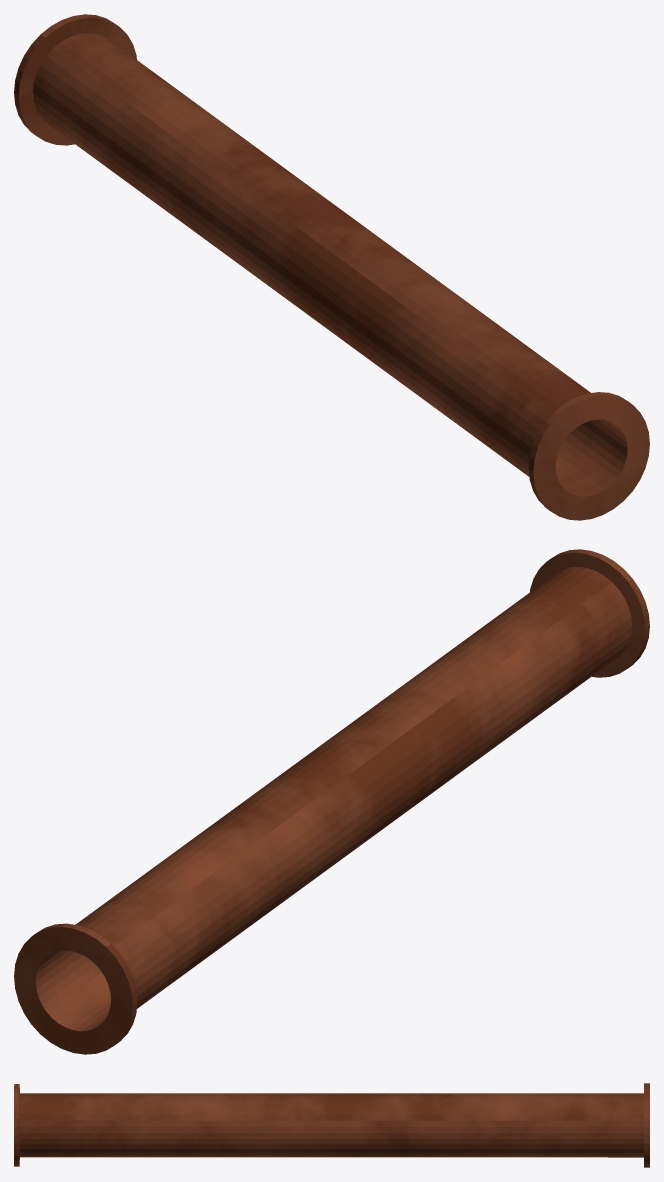
Rendered from Two end long straight pipe.glb.
3 views of the same model, one above another, from view 1: azimuth 30°, elevation 25°; view 2: azimuth 150°, elevation 25°; view 3: azimuth 270°, elevation 25° (orthographic). The views are drawn at different scales.
Visible parts, largest first — view 1: Two end long pipe; view 2: Two end long pipe; view 3: Two end long pipe.
Boxes of the visible parts, x1,y1,x2,y2 form: Two end long pipe: [14, 14, 649, 520]; Two end long pipe: [14, 549, 649, 1054]; Two end long pipe: [14, 1083, 649, 1167].
Size of the model in its own units: 0.5298 by 0.5298 by 4.
Materials: 1 (1 with a texture image).
